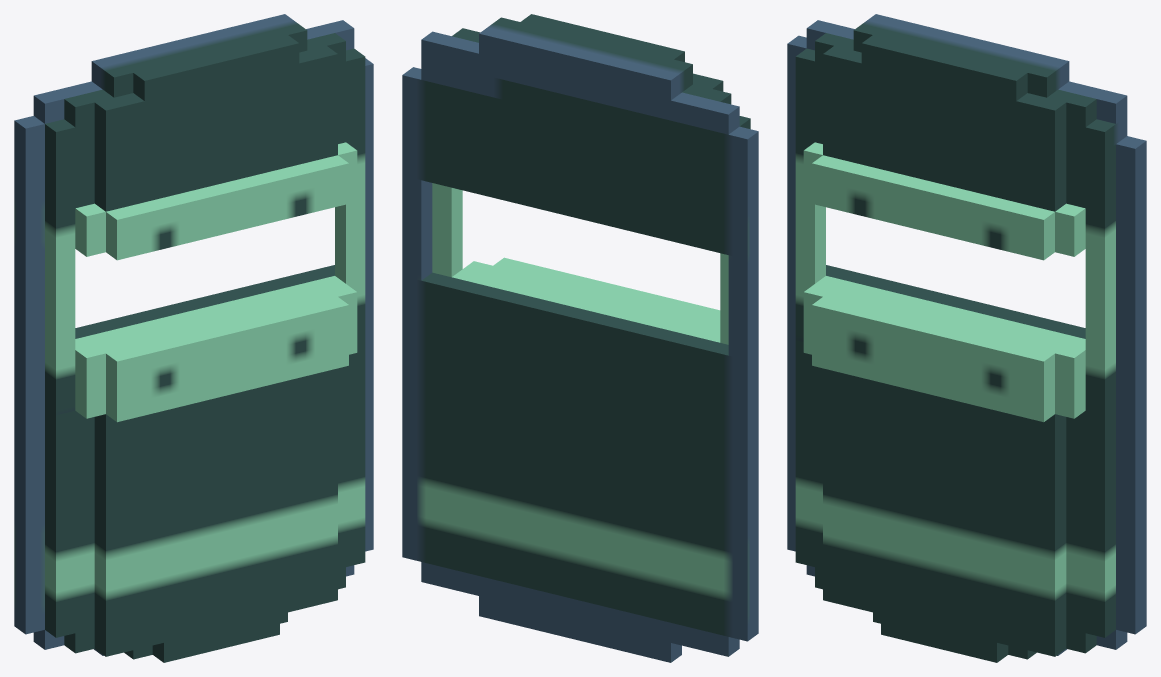
File: Shield.fbx
3 views of the same model, side by side, from view 1: azimuth 30°, elevation 25°; view 2: azimuth 150°, elevation 25°; view 3: azimuth 330°, elevation 25° (orthographic).
Parts seen in each view (by area): view 1: Object; view 2: Object; view 3: Object.
Part boxes in pixels (bbox=[...]): Object: bbox=[14, 14, 373, 662]; Object: bbox=[402, 14, 758, 662]; Object: bbox=[787, 14, 1146, 662].
Bounding box in the file's own units: 18 × 29 × 4.
